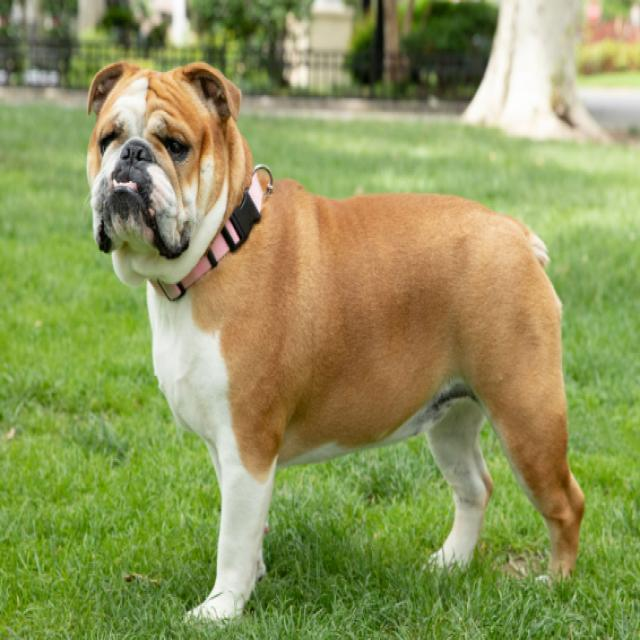Bulldog: (85, 57, 591, 627)
